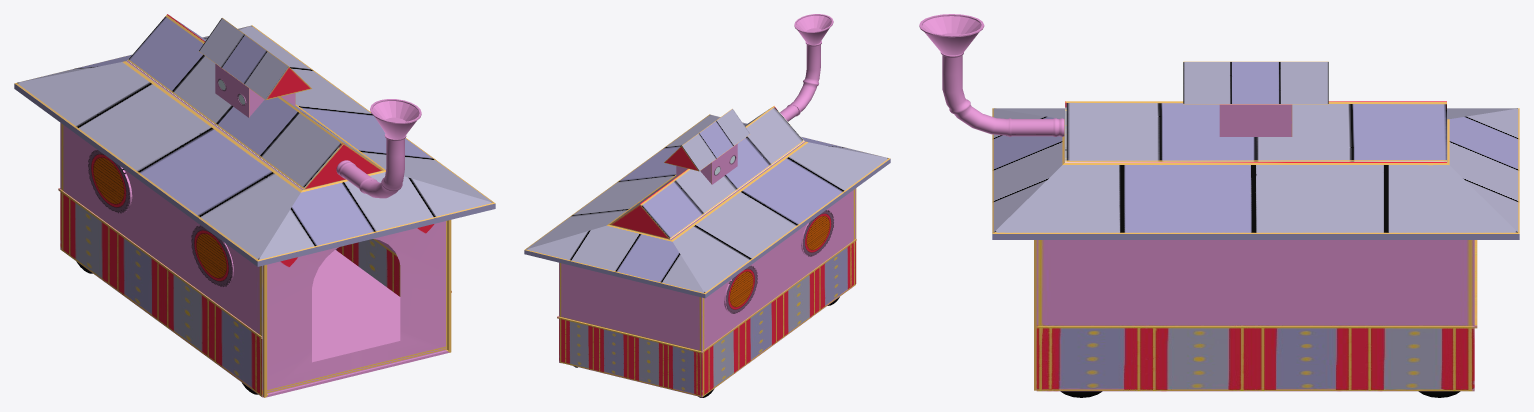
The model's file is fachada.obj.
The picture shows the model from 3 angles, left to right: view 1: azimuth 30°, elevation 25°; view 2: azimuth 150°, elevation 25°; view 3: azimuth 270°, elevation 25°; orthographic projection. The views are drawn at different scales.
Parts seen in each view (by area): view 1: pCube25; view 2: pCube25; view 3: pCube25.
Boxes of the visible parts, box(x1,y1,x2,y2) form: pCube25: box(14, 14, 495, 397); pCube25: box(524, 14, 890, 397); pCube25: box(919, 14, 1519, 397).
Size of the model in its own units: 11.64 by 14.24 by 23.47.
13 materials, 13 textured.
